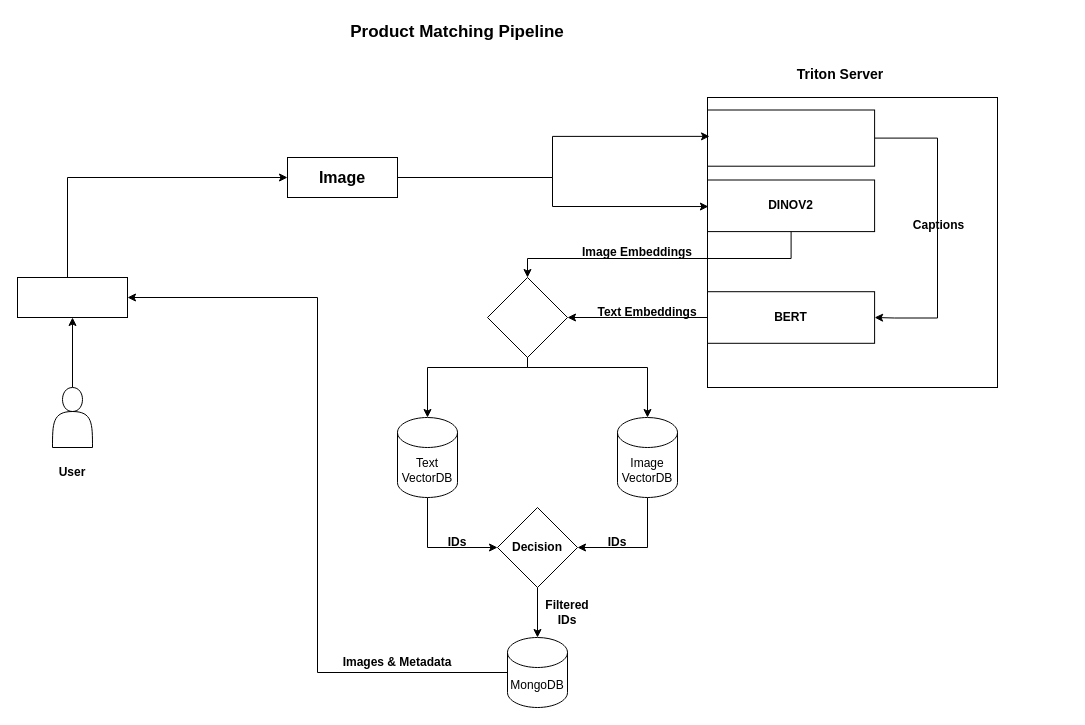
The diagram is 1085 pixels wide and 725 high, and some of its shapes have lost their labels. The box of each missing label's shape, as (x1, y1, x2, y2) in pixels:
Client: (16, 276, 128, 318)
LLava Vision: (706, 109, 875, 166)
Sync: (486, 276, 568, 358)
